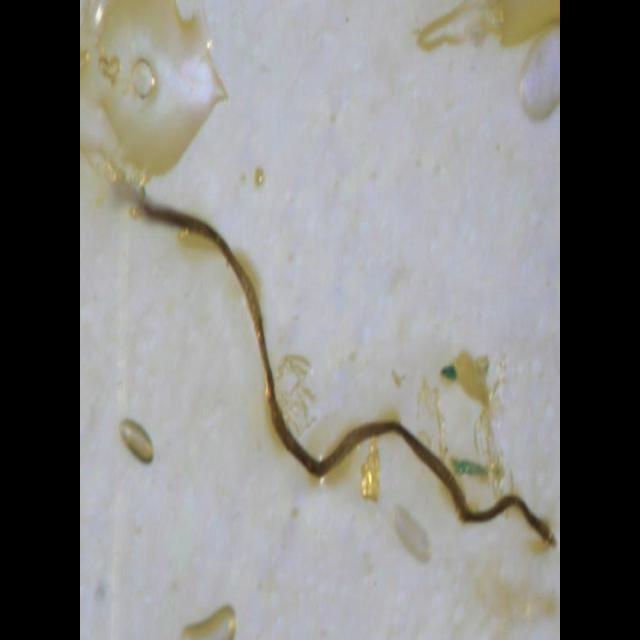Fibre: (124, 155, 556, 555)
